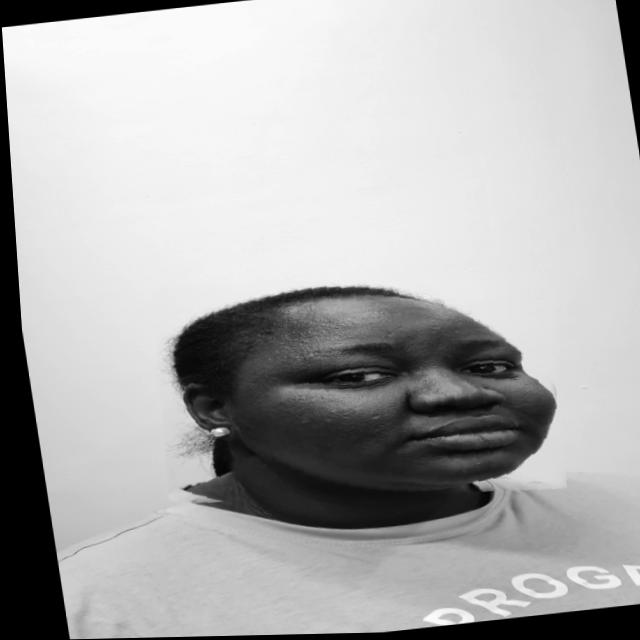sad: (134, 252, 572, 525)
